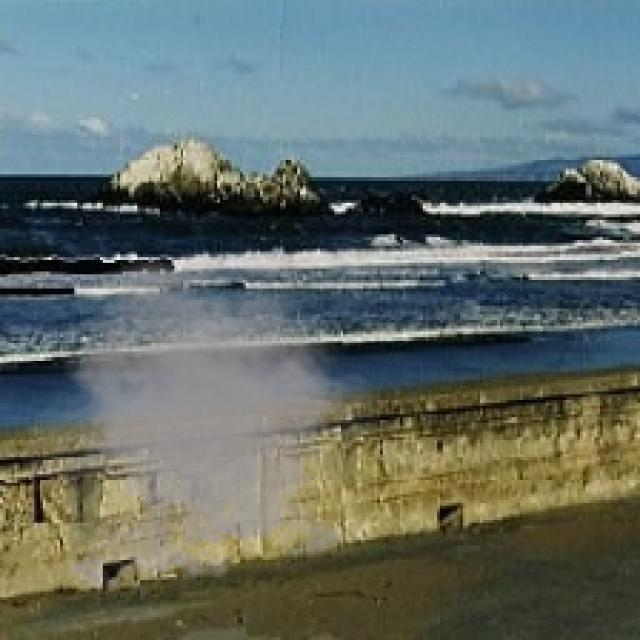Smoke: (8, 255, 400, 600)
